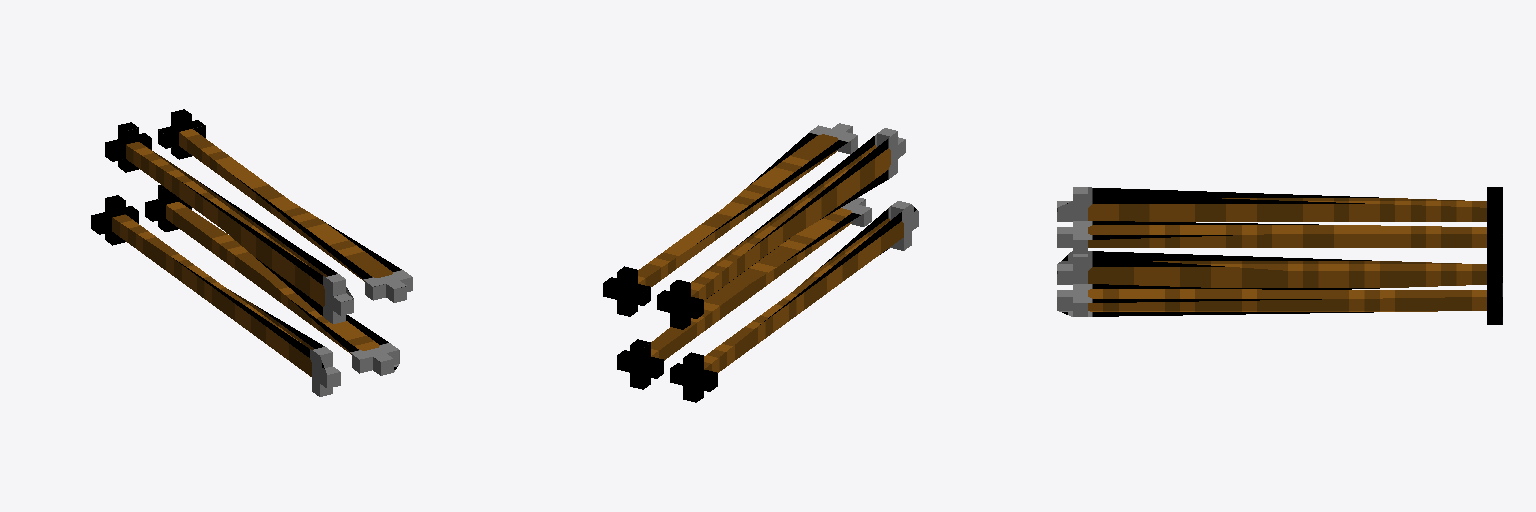
The picture shows the model from 3 angles: view 1: azimuth 30°, elevation 25°; view 2: azimuth 150°, elevation 25°; view 3: azimuth 270°, elevation 25°; orthographic projection.
Parts seen in each view (by area): view 1: Trap_Wall_Small_Active_Trap_Wall_Small_Active.001; view 2: Trap_Wall_Small_Active_Trap_Wall_Small_Active.001; view 3: Trap_Wall_Small_Active_Trap_Wall_Small_Active.001.
Part boxes in pixels (x1,y1,x2,y2): Trap_Wall_Small_Active_Trap_Wall_Small_Active.001: (91,109,412,396); Trap_Wall_Small_Active_Trap_Wall_Small_Active.001: (603,123,918,402); Trap_Wall_Small_Active_Trap_Wall_Small_Active.001: (1057,187,1502,324).
Size of the model in its own units: 0.8 by 0.8 by 2.9.
1 materials, 1 textured.